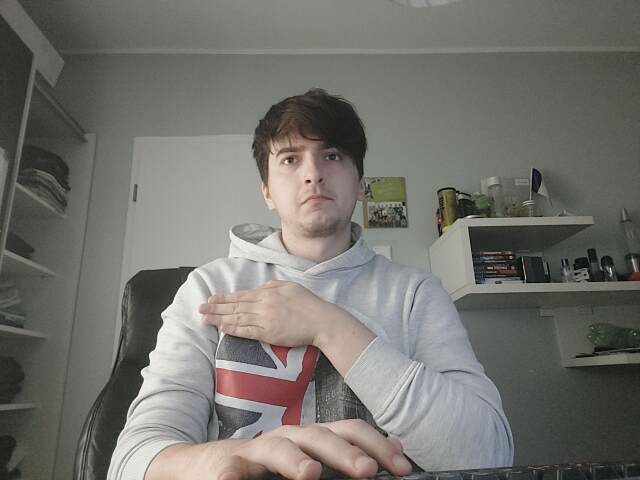please: (197, 280, 319, 349)
